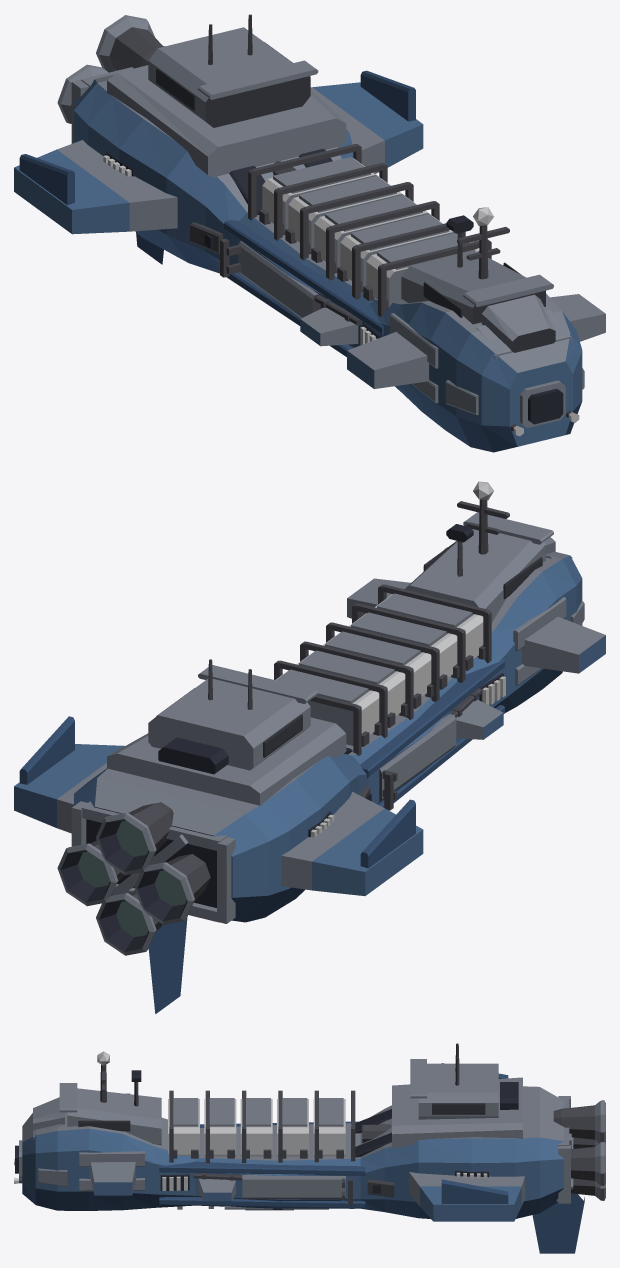
File: sea_freighter.glb
3 views of the same model, one above another, from view 1: azimuth 30°, elevation 25°; view 2: azimuth 150°, elevation 25°; view 3: azimuth 270°, elevation 25° (orthographic). The views are drawn at different scales.
Parts seen in each view (by area): view 1: cargo-freighter, cargo-pods, nozzles, hatch-l; view 2: cargo-freighter, cargo-pods, nozzles, hatch-l; view 3: cargo-freighter, cargo-pods, nozzles, hatch-r.
Boxes of the visible parts, x1,y1,x2,y2 form: cargo-freighter: [14, 14, 605, 452]; cargo-pods: [259, 157, 479, 309]; nozzles: [57, 15, 165, 123]; hatch-l: [226, 241, 320, 318]; cargo-freighter: [14, 481, 605, 1014]; cargo-pods: [275, 593, 485, 746]; nozzles: [57, 802, 210, 955]; hatch-l: [379, 714, 456, 801]; cargo-freighter: [14, 1043, 584, 1253]; cargo-pods: [168, 1098, 345, 1158]; nozzles: [553, 1100, 605, 1200]; hatch-r: [242, 1175, 345, 1200].
Size of the model in its own units: 11.7 by 9.1 by 24.43.
